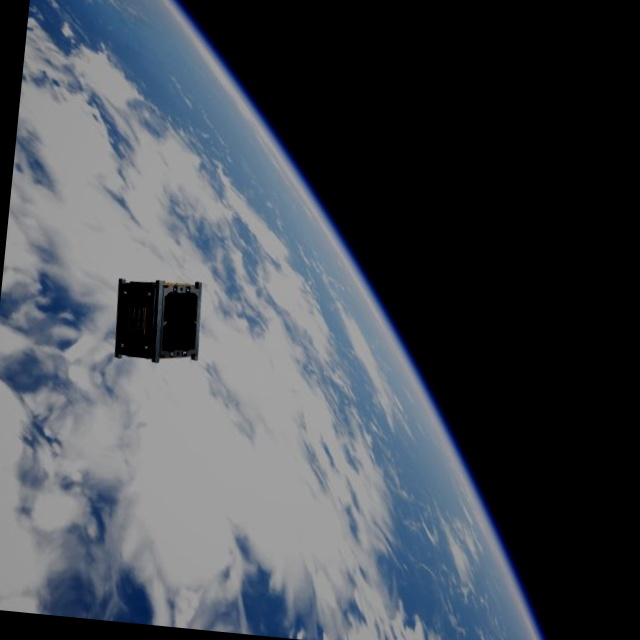satellite: (107, 277, 204, 369)
